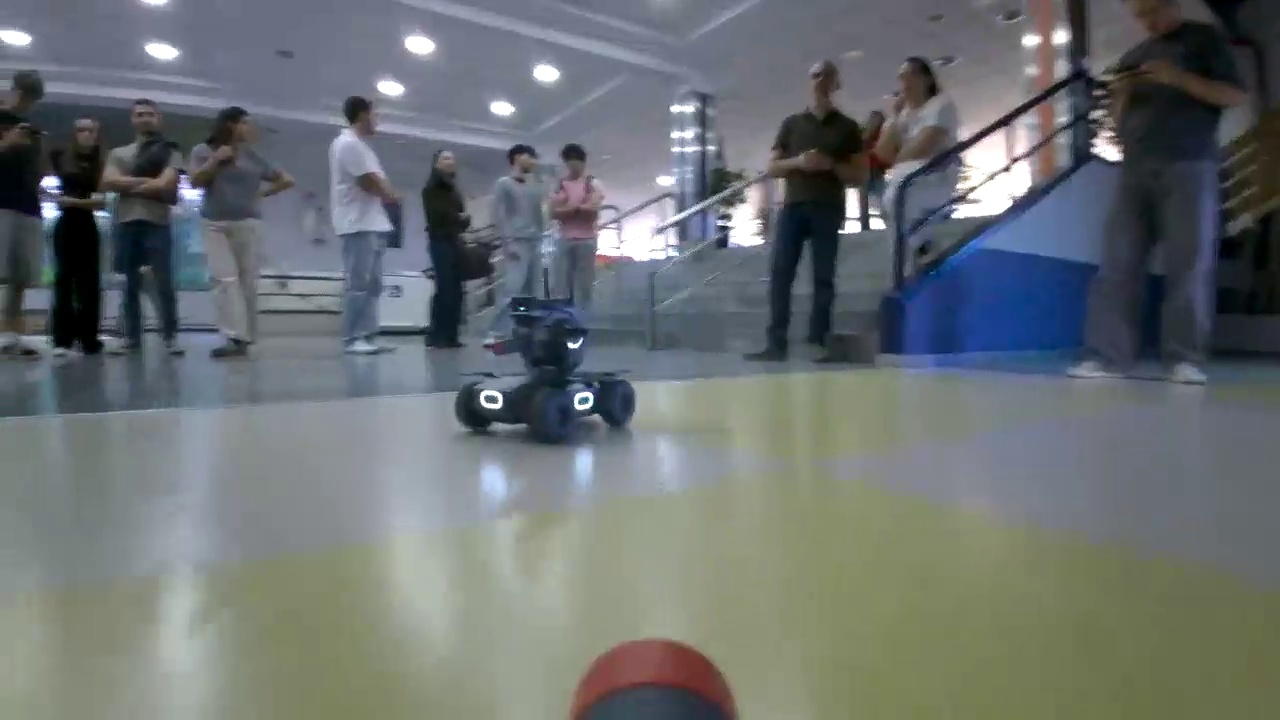robot: (456, 298, 639, 442)
